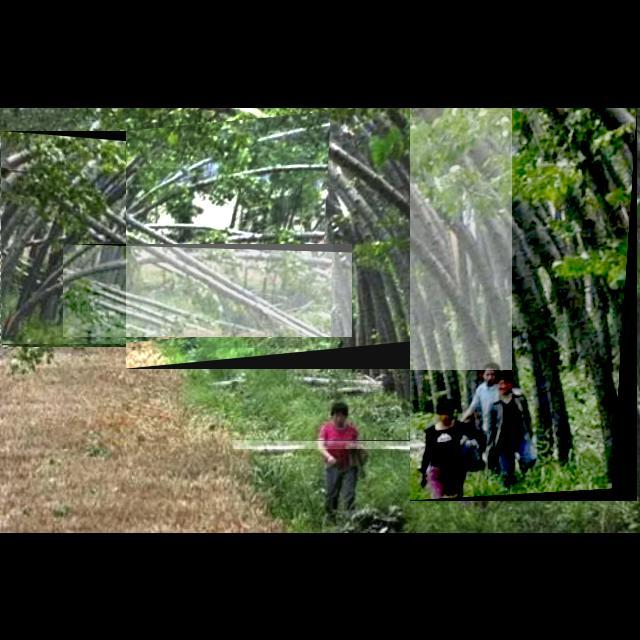fallen_tree: (126, 108, 512, 370), (410, 108, 638, 502), (1, 131, 333, 345), (2, 168, 302, 348), (63, 244, 353, 338), (232, 440, 446, 450)
